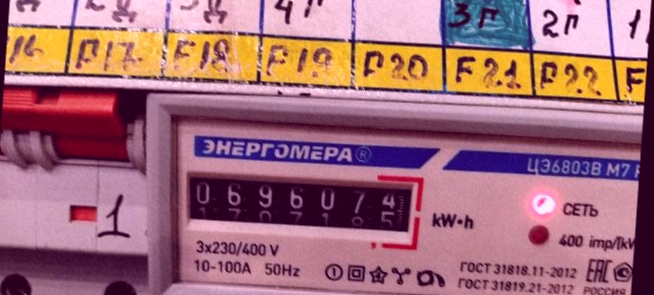0: (190, 177, 210, 203), (316, 183, 334, 210)
4: (378, 186, 394, 208)
5: (377, 208, 392, 228)
6: (221, 178, 241, 205), (285, 181, 303, 209)
7: (347, 186, 365, 213)
9: (253, 181, 272, 208)
screen: (174, 156, 425, 250)
